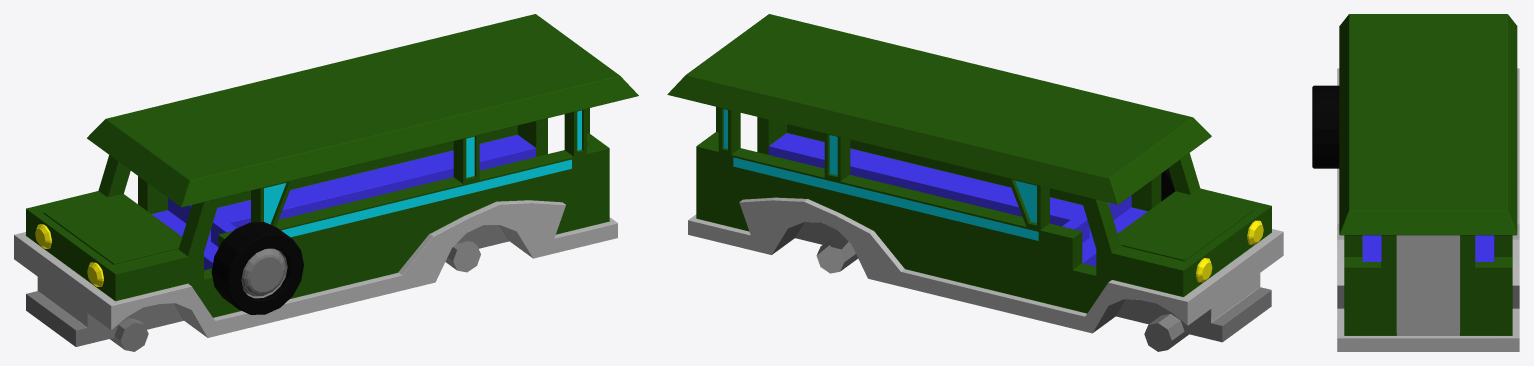
File: Jeep_3.fbx
The picture shows the model from 3 angles, left to right: view 1: azimuth 30°, elevation 25°; view 2: azimuth 150°, elevation 25°; view 3: azimuth 270°, elevation 25°; orthographic projection. The views are drawn at different scales.
Parts seen in each view (by area): view 1: Cube.002; view 2: Cube.002; view 3: Cube.002.
Part boxes in pixels (x1=…): Cube.002: x1=14, y1=14, x2=638, y2=351; Cube.002: x1=667, y1=14, x2=1283, y2=351; Cube.002: x1=1312, y1=14, x2=1519, y2=351.
Bounding box in the file's own units: 570 × 171 × 202.
